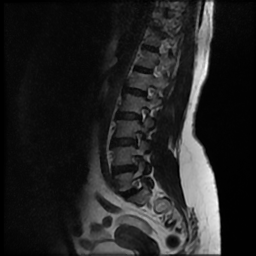LFS0: (129, 102, 155, 128), (126, 128, 148, 151), (138, 81, 160, 104), (127, 174, 148, 195)
